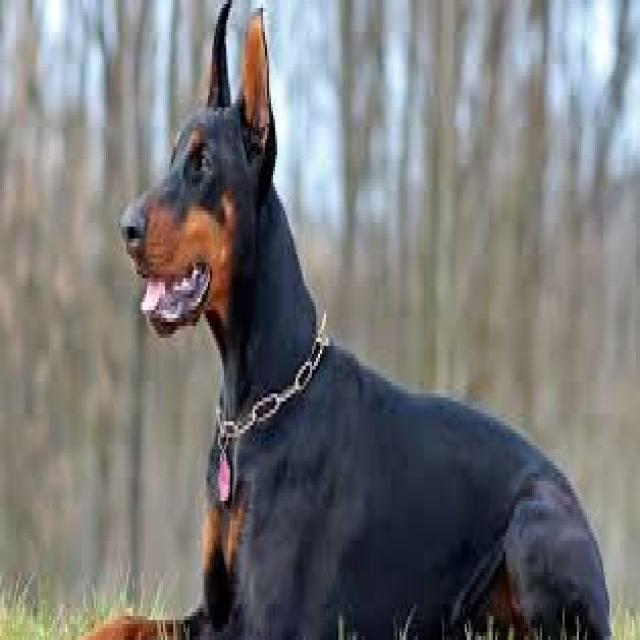Dog: (97, 2, 616, 640)
